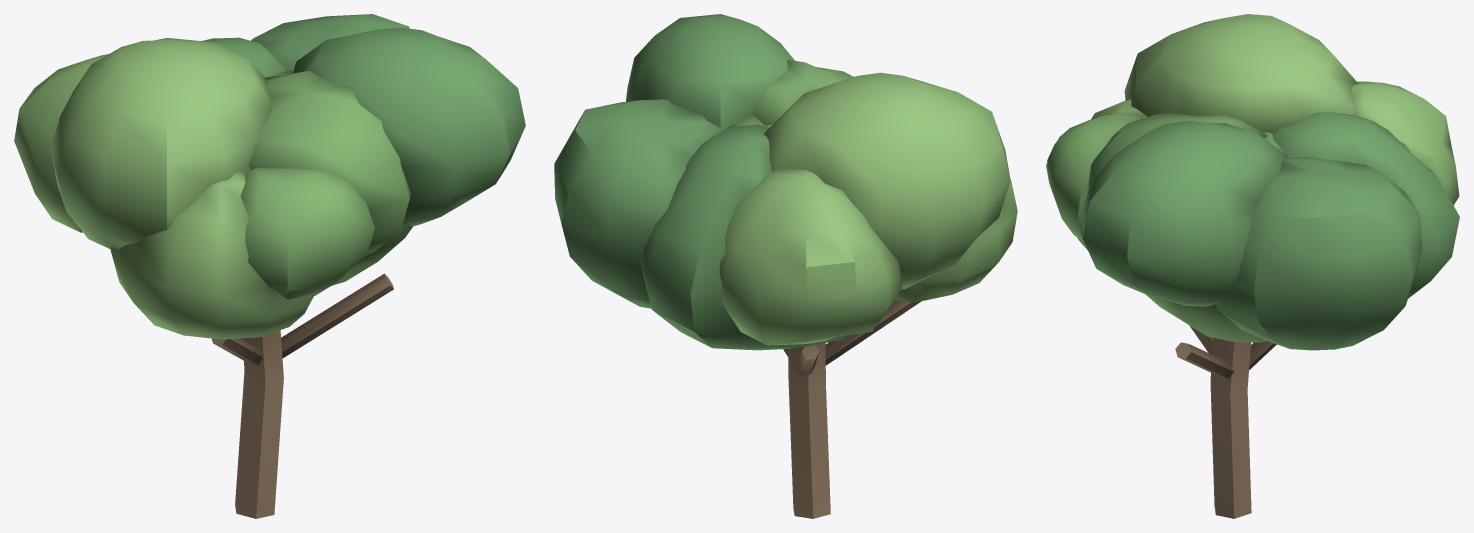
File: tree.glb
The picture shows the model from 3 angles, left to right: view 1: azimuth 30°, elevation 25°; view 2: azimuth 150°, elevation 25°; view 3: azimuth 270°, elevation 25°; orthographic projection. The views are drawn at different scales.
Parts seen in each view (by area): view 1: boat_leafB, boat_leafC, boat_leafA, boat_bark2; view 2: boat_leafB, boat_leafC, boat_bark2, boat_leafA; view 3: boat_leafC, boat_leafB, boat_leafA, boat_bark2.
Part boxes in pixels (<box>): boat_leafB: <box>14,38,313,339</box>; boat_leafC: <box>202,14,525,226</box>; boat_leafA: <box>240,71,412,299</box>; boat_bark2: <box>211,273,393,518</box>; boat_leafB: <box>719,72,1017,345</box>; boat_leafC: <box>554,14,846,350</box>; boat_bark2: <box>783,300,921,518</box>; boat_leafA: <box>726,59,853,129</box>; boat_leafC: <box>1082,112,1459,350</box>; boat_leafB: <box>1077,14,1459,250</box>; boat_leafA: <box>1046,113,1287,342</box>; boat_bark2: <box>1175,325,1276,518</box>.
Bounding box in the file's own units: 5.56 × 6.16 × 5.18.
